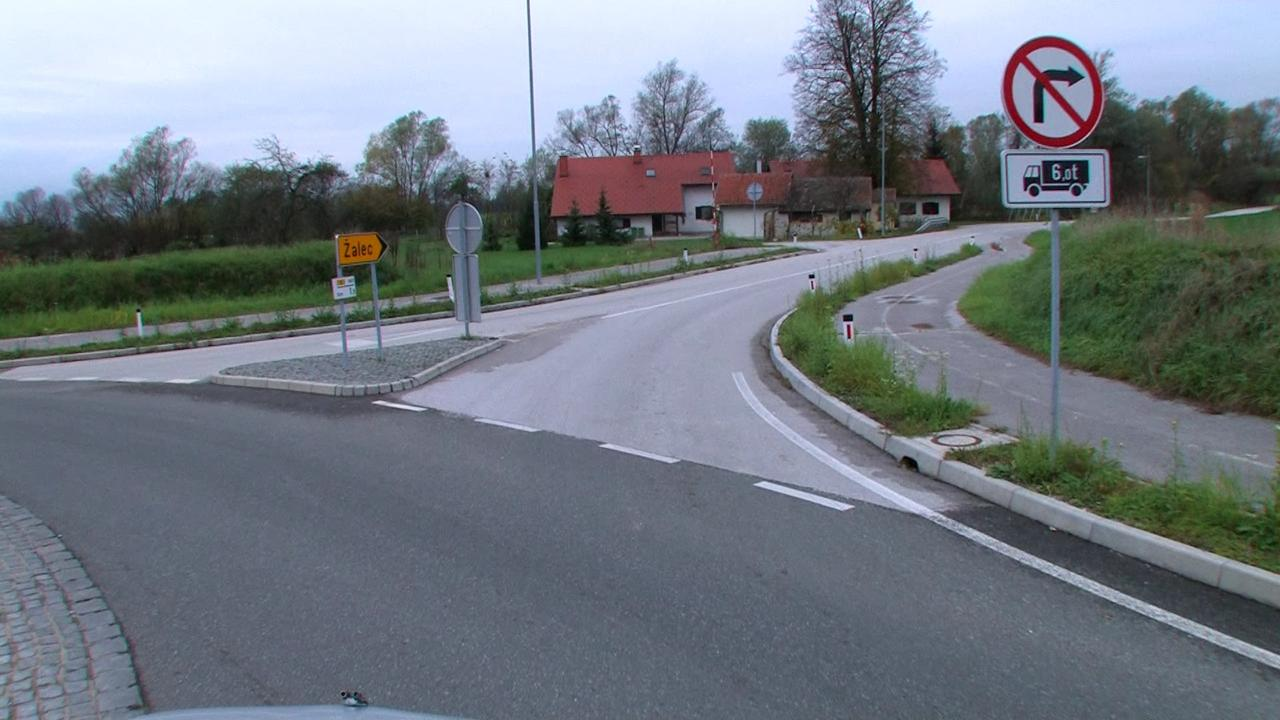Multi-inform: (336, 231, 390, 267)
Rectangle: (999, 147, 1112, 209)
Round: (1001, 35, 1105, 152)
